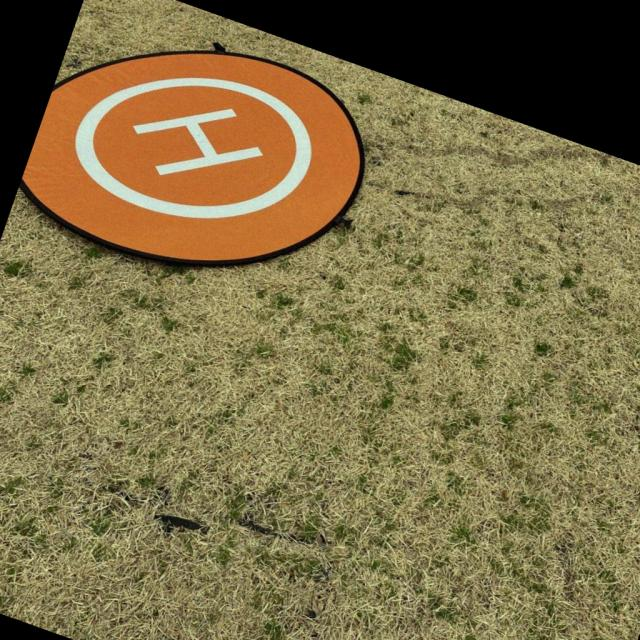helipad: (68, 74, 314, 224)
